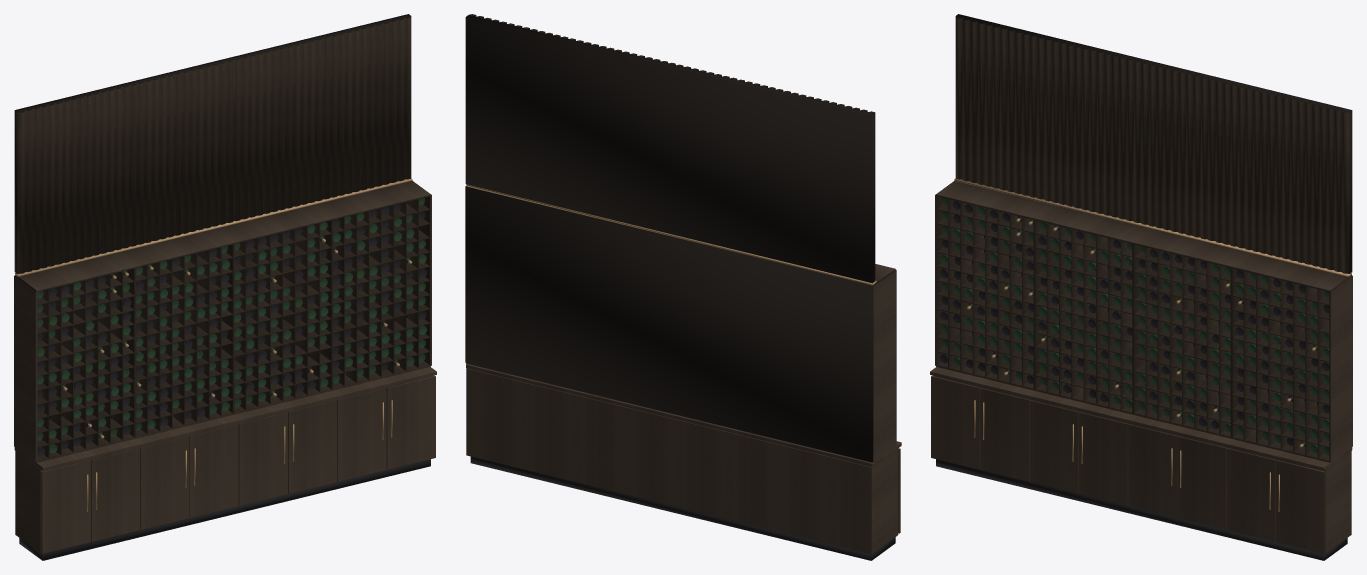
Rendered from dining_wine_rack.gltf.
3 views of the same model, side by side, from view 1: azimuth 30°, elevation 25°; view 2: azimuth 150°, elevation 25°; view 3: azimuth 330°, elevation 25° (orthographic). The views are drawn at different scales.
Visible parts, largest first — view 1: DiningWineRack_Frame, DiningWineRack_CrownRibs, DiningWineRack_Doors, DiningWineRack_BottlesGreen, DiningWineRack_BottlesBlack, DiningWineRack_Worktop, DiningWineRack_Plinth, DiningWineRack_Crown, DiningWineRack_Cabinet, DiningWineRack_Reveal, DiningWineRack_Pulls; view 2: DiningWineRack_Backing, DiningWineRack_Crown, DiningWineRack_Cabinet, DiningWineRack_Frame, DiningWineRack_Plinth, DiningWineRack_Worktop, DiningWineRack_Reveal, DiningWineRack_CrownRibs; view 3: DiningWineRack_Frame, DiningWineRack_CrownRibs, DiningWineRack_Doors, DiningWineRack_BottlesGreen, DiningWineRack_BottlesBlack, DiningWineRack_Worktop, DiningWineRack_Plinth, DiningWineRack_Crown, DiningWineRack_Cabinet, DiningWineRack_Reveal, DiningWineRack_Pulls.
Boxes of the visible parts, x1,y1,x2,y2 form: DiningWineRack_Frame: [14, 181, 431, 462]; DiningWineRack_CrownRibs: [17, 18, 411, 273]; DiningWineRack_Doors: [41, 375, 435, 553]; DiningWineRack_BottlesGreen: [37, 198, 426, 453]; DiningWineRack_BottlesBlack: [37, 204, 426, 456]; DiningWineRack_Worktop: [14, 367, 436, 470]; DiningWineRack_Plinth: [19, 459, 430, 560]; DiningWineRack_Crown: [14, 14, 411, 273]; DiningWineRack_Cabinet: [15, 375, 433, 553]; DiningWineRack_Reveal: [15, 178, 412, 277]; DiningWineRack_Pulls: [87, 400, 392, 511]; DiningWineRack_Backing: [465, 187, 873, 462]; DiningWineRack_Crown: [465, 15, 875, 283]; DiningWineRack_Cabinet: [466, 368, 898, 554]; DiningWineRack_Frame: [465, 186, 896, 462]; DiningWineRack_Plinth: [470, 456, 895, 560]; DiningWineRack_Worktop: [466, 364, 901, 466]; DiningWineRack_Reveal: [466, 184, 876, 285]; DiningWineRack_CrownRibs: [469, 14, 875, 113]; DiningWineRack_Frame: [935, 181, 1352, 462]; DiningWineRack_CrownRibs: [955, 18, 1349, 273]; DiningWineRack_Doors: [931, 375, 1325, 553]; DiningWineRack_BottlesGreen: [940, 198, 1329, 455]; DiningWineRack_BottlesBlack: [939, 201, 1329, 445]; DiningWineRack_Worktop: [930, 367, 1352, 470]; DiningWineRack_Plinth: [936, 459, 1347, 560]; DiningWineRack_Crown: [955, 14, 1352, 273]; DiningWineRack_Cabinet: [933, 375, 1351, 553]; DiningWineRack_Reveal: [954, 178, 1351, 277]; DiningWineRack_Pulls: [974, 400, 1279, 511].
Bounding box in the file's own units: 4.02 × 4.2 × 0.5039.
Materials: 6 (1 with a texture image).
